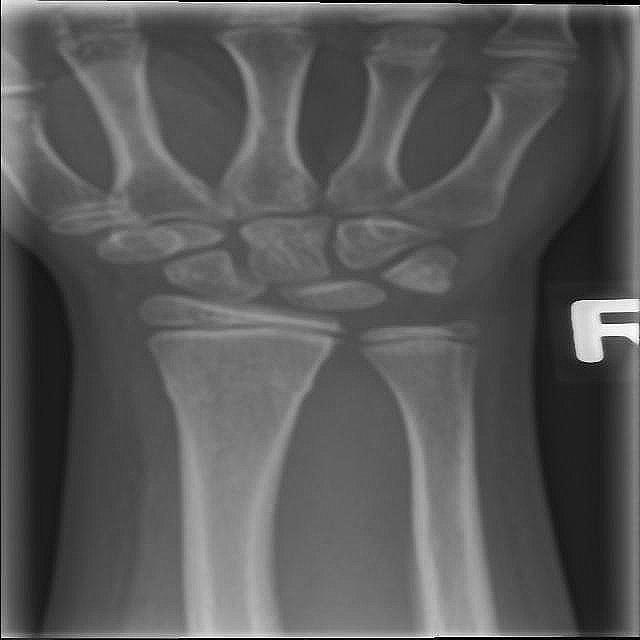bone: (158, 368, 318, 403)
